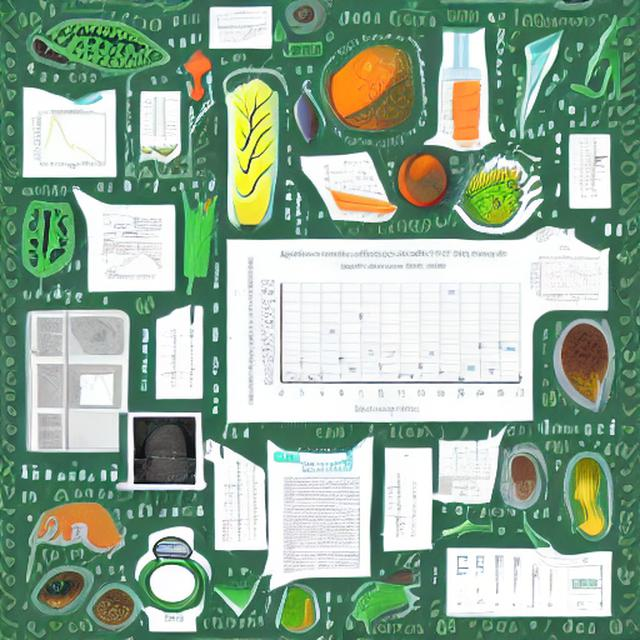Graph: (242, 241, 528, 417), (29, 106, 114, 170), (529, 256, 603, 304), (70, 370, 122, 409), (212, 8, 269, 40), (142, 456, 192, 485)
